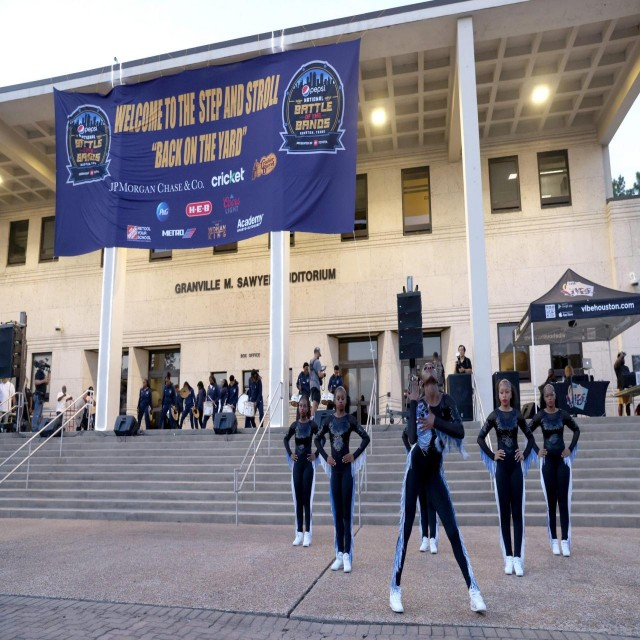pepsi: (300, 82, 313, 101), (75, 121, 86, 141)
